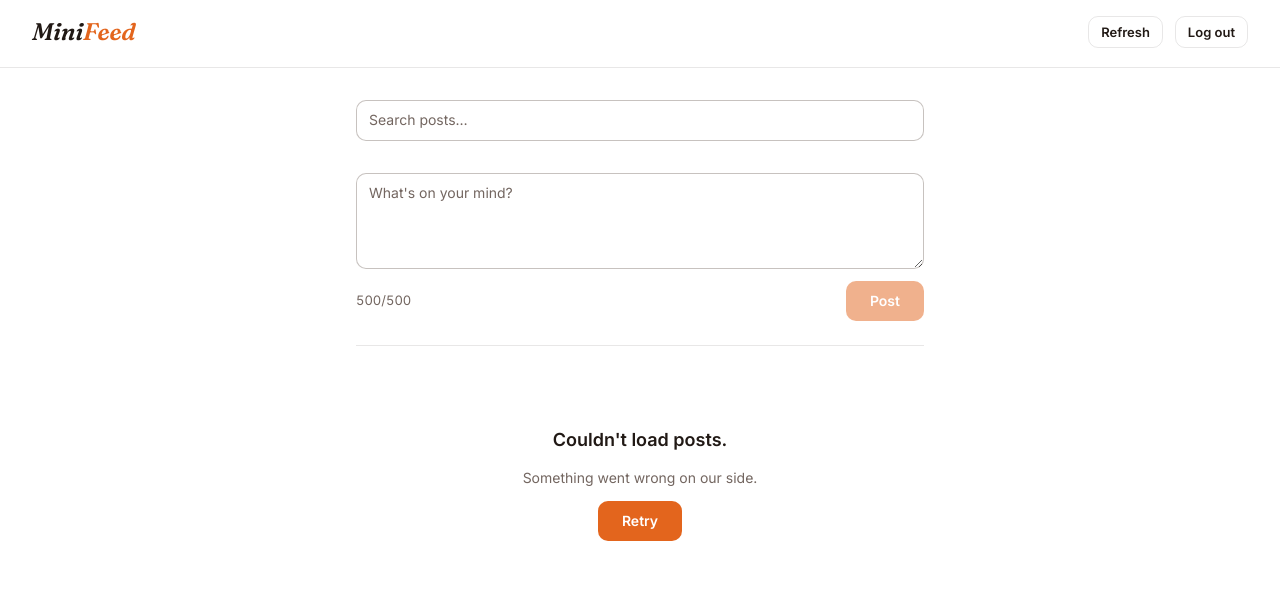
FeedPage › renders error state with a working retry button
expect the heading "Couldn't load posts." is shown: met, box [553,426,727,455]
Step 1. Click the button "Retry" → (640,521), box [598,501,682,541]
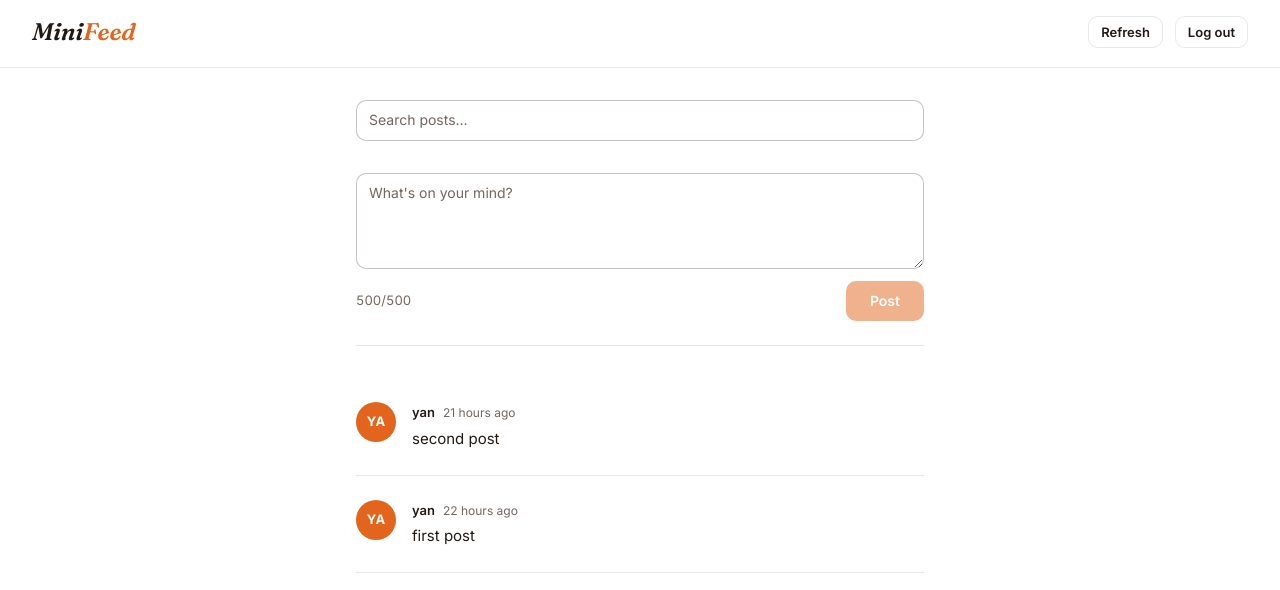
expect the text "second post" is shown: met, box [412,429,500,448]
